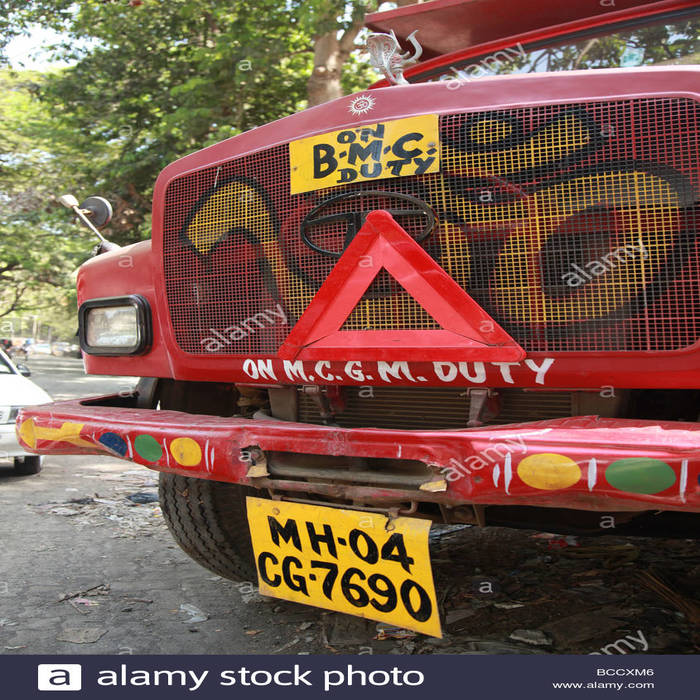n: (242, 499, 447, 636), (289, 113, 449, 186)
